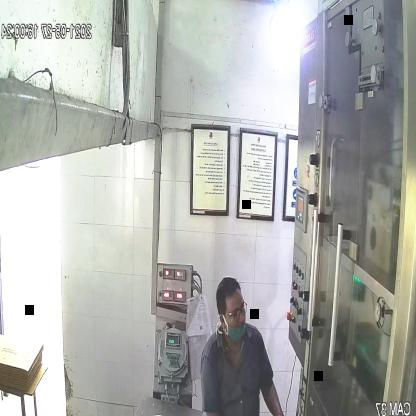goggles: (220, 295, 252, 324)
